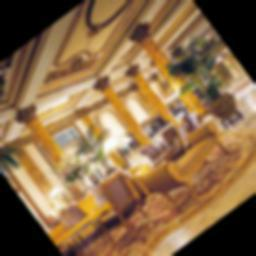Matera: (156, 25, 256, 138)
